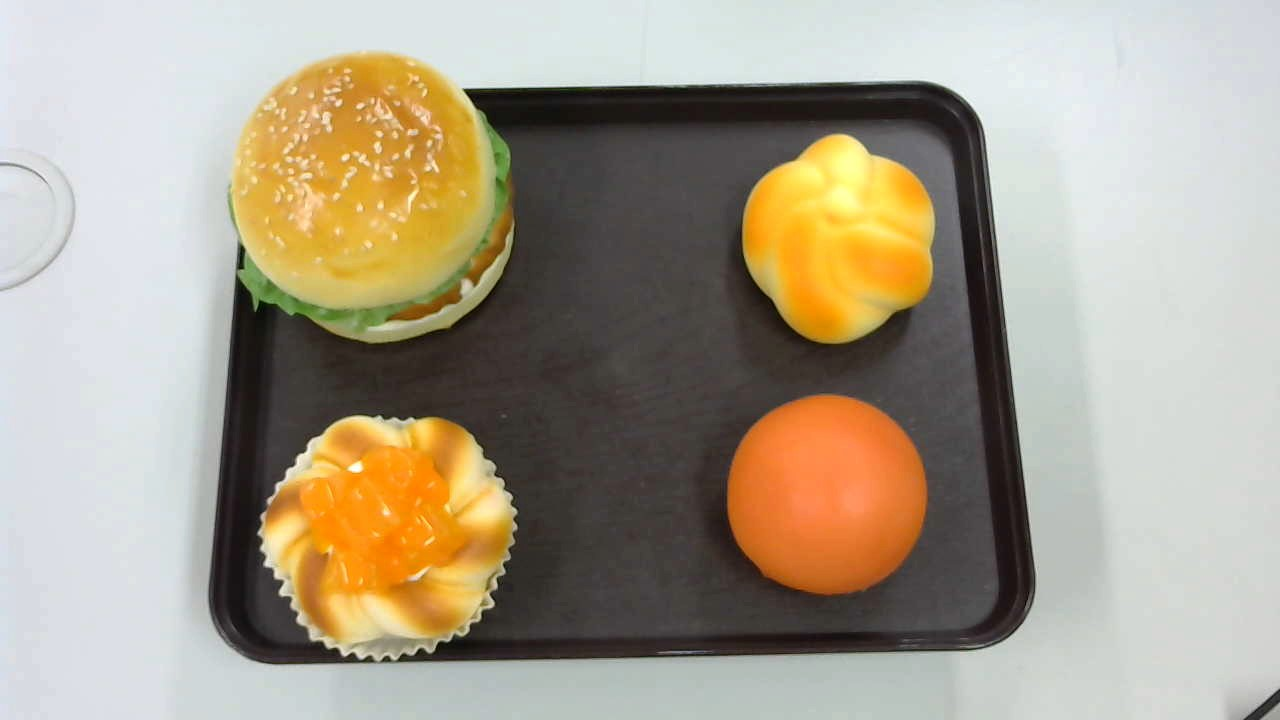bun: (727, 393, 929, 596)
hamburger: (227, 51, 517, 344)
mango tart: (259, 415, 517, 660)
twist bread: (740, 132, 938, 347)
